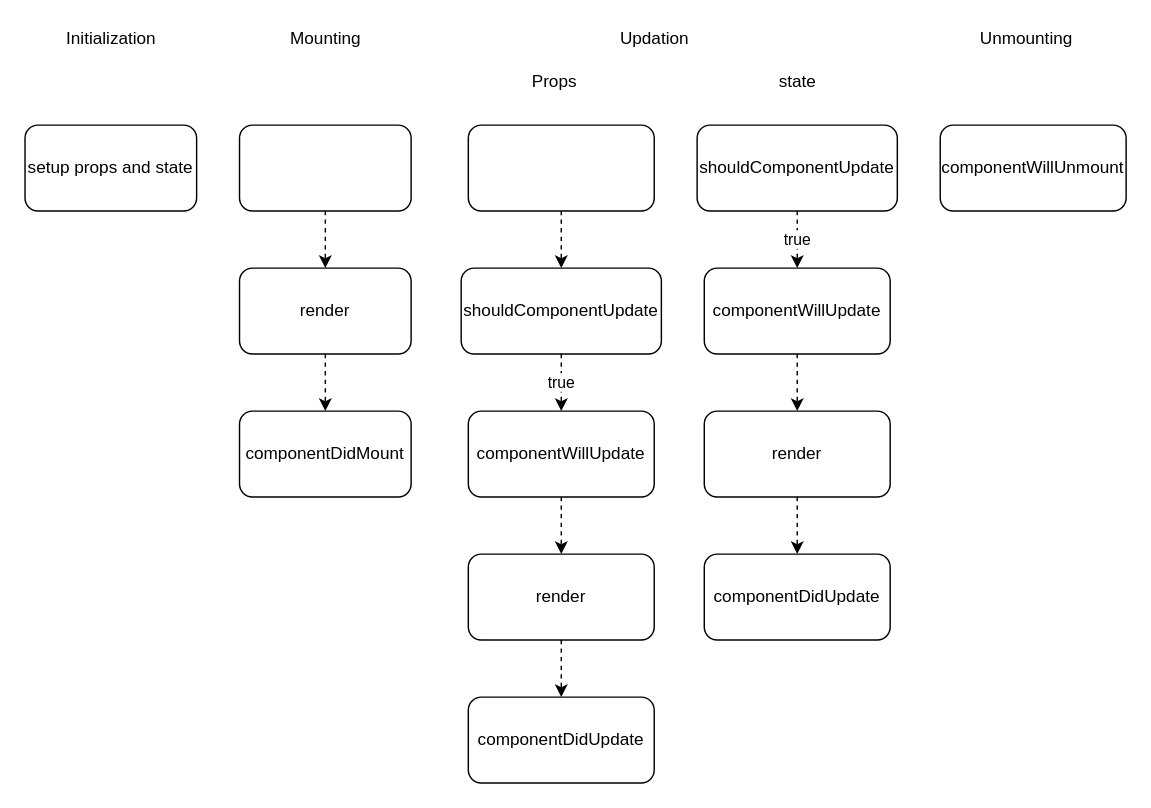
Image size: 1151x808. Some labels were removed from this diagram. The box of each missing label's shape, as (x1, y1, x2, y2) in pixels:
compnentReceiveProps: (467, 124, 654, 211)
componentWillMount: (238, 124, 411, 211)
